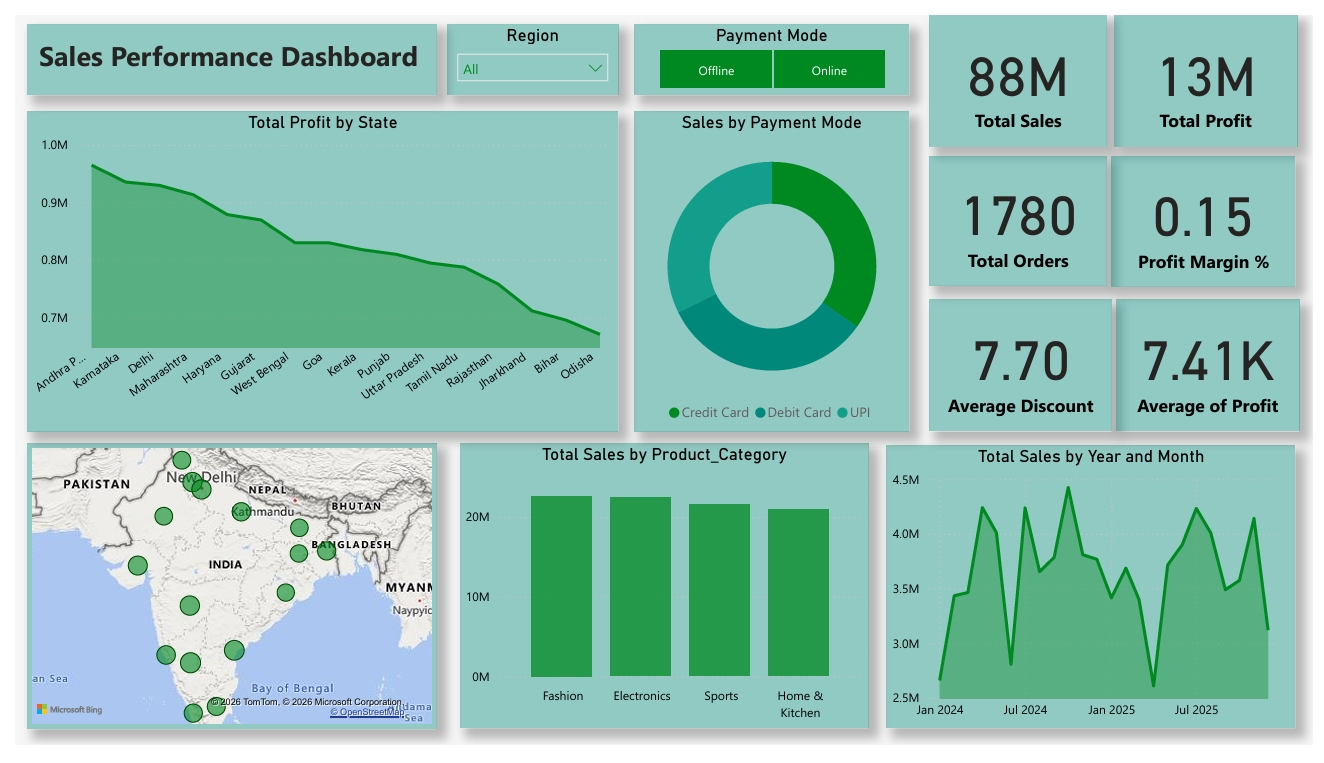

This screenshot's page, from the dashboard's own definition file:
{"tool":"powerbi","page":{"name":"Page 1","canvas":[1280,720],"ordinal":0},"visuals":[{"type":"card","fields":{"Values":["sales_dashboard.Total Sales"]},"box":[901.8,0,175.4,129.8],"z":0},{"type":"card","fields":{"Values":["sales_dashboard.Total Profit"]},"box":[1084.2,0,180.7,129.8],"z":1000},{"type":"card","fields":{"Values":["sales_dashboard.Total Orders"]},"box":[901.8,138.6,175.4,128.1],"z":2000},{"type":"card","fields":{"Values":["sales_dashboard.Profit Margin %"]},"box":[1082.5,138.6,180.7,129.8],"z":3000},{"type":"lineChart","fields":{"Y":["sales_dashboard.Total Sales"],"Category":["sales_dashboard.Order_Date.Variation.Date Hierarchy.Year","sales_dashboard.Order_Date.Variation.Date Hierarchy.Month"]},"box":[859.6,424.6,403.5,278.9],"z":4000},{"type":"columnChart","fields":{"Category":["sales_dashboard.Product_Category"],"Y":["sales_dashboard.Total Sales"]},"box":[438.6,422.8,403.5,280.7],"z":5000},{"type":"map","fields":{"Size":["sales_dashboard.Total Sales"],"Category":["sales_dashboard.State"]},"box":[12.3,422.8,403.5,282.5],"z":6000},{"type":"donutChart","title":"Sales by Payment Mode","fields":{"Category":["sales_dashboard.Payment_Mode"],"Y":["CountNonNull(sales_dashboard.Sales_Channel)"]},"box":[610.5,94.7,271.9,315.8],"z":7000},{"type":"slicer","title":"Region","fields":{"Values":["sales_dashboard.Region"]},"box":[426.3,8.8,168.4,70.2],"z":8000},{"type":"slicer","title":"Payment Mode","fields":{"Values":["sales_dashboard.Sales_Channel"]},"box":[610.5,8.8,271.9,70.2],"z":9000},{"type":"stackedAreaChart","fields":{"Category":["sales_dashboard.State"],"Y":["sales_dashboard.Total Profit"]},"box":[12.3,94.7,582.5,315.8],"z":10000},{"type":"card","fields":{"Values":["sales_dashboard.Average Discount"]},"box":[901.8,280.7,180.7,129.8],"z":11000},{"type":"card","fields":{"Values":["Avg(sales_dashboard.Profit)"]},"box":[1086,280.7,180.7,129.8],"z":12000},{"type":"textbox","box":[12.3,8.8,403.5,70.2],"z":13000}]}

Visuals, with their boxes in screenshot pixels (x1, y1, x2, y2), scaled from the page's 1280x720 canvas onto the 1324x763 screenshot:
card - sales_dashboard.Total Sales: [left=933, top=0, right=1114, bottom=138]
card - sales_dashboard.Total Profit: [left=1121, top=0, right=1308, bottom=138]
card - sales_dashboard.Total Orders: [left=933, top=147, right=1114, bottom=283]
card - sales_dashboard.Profit Margin %: [left=1120, top=147, right=1307, bottom=284]
lineChart - sales_dashboard.Total Sales x sales_dashboard.Order_Date.Variation.Date Hierarchy.Year: [left=889, top=450, right=1307, bottom=746]
columnChart - sales_dashboard.Product_Category x sales_dashboard.Total Sales: [left=454, top=448, right=871, bottom=746]
map - sales_dashboard.Total Sales x sales_dashboard.State: [left=13, top=448, right=430, bottom=747]
"Sales by Payment Mode" donutChart: [left=631, top=100, right=913, bottom=435]
"Region" slicer: [left=441, top=9, right=615, bottom=84]
"Payment Mode" slicer: [left=631, top=9, right=913, bottom=84]
stackedAreaChart - sales_dashboard.State x sales_dashboard.Total Profit: [left=13, top=100, right=615, bottom=435]
card - sales_dashboard.Average Discount: [left=933, top=297, right=1120, bottom=435]
card - Avg(sales_dashboard.Profit): [left=1123, top=297, right=1310, bottom=435]
textbox: [left=13, top=9, right=430, bottom=84]
